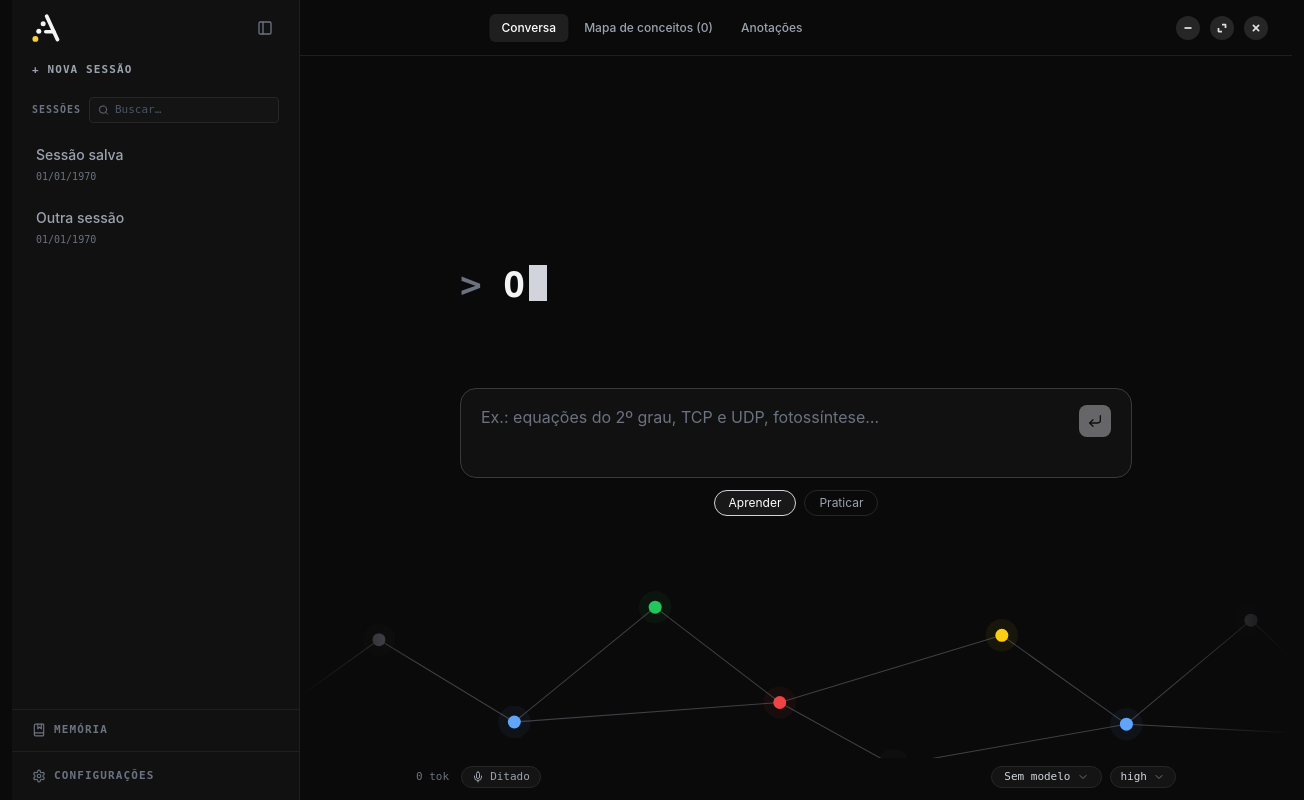
Test: App session navigation › F5: going back to the current session after "+ Nova sessão" restores the conversation
This screenshot has width=1304, height=800.
Step 1. Click the text "Sessão salva" → (80, 155), box x1=36 y1=145 x2=124 y2=165
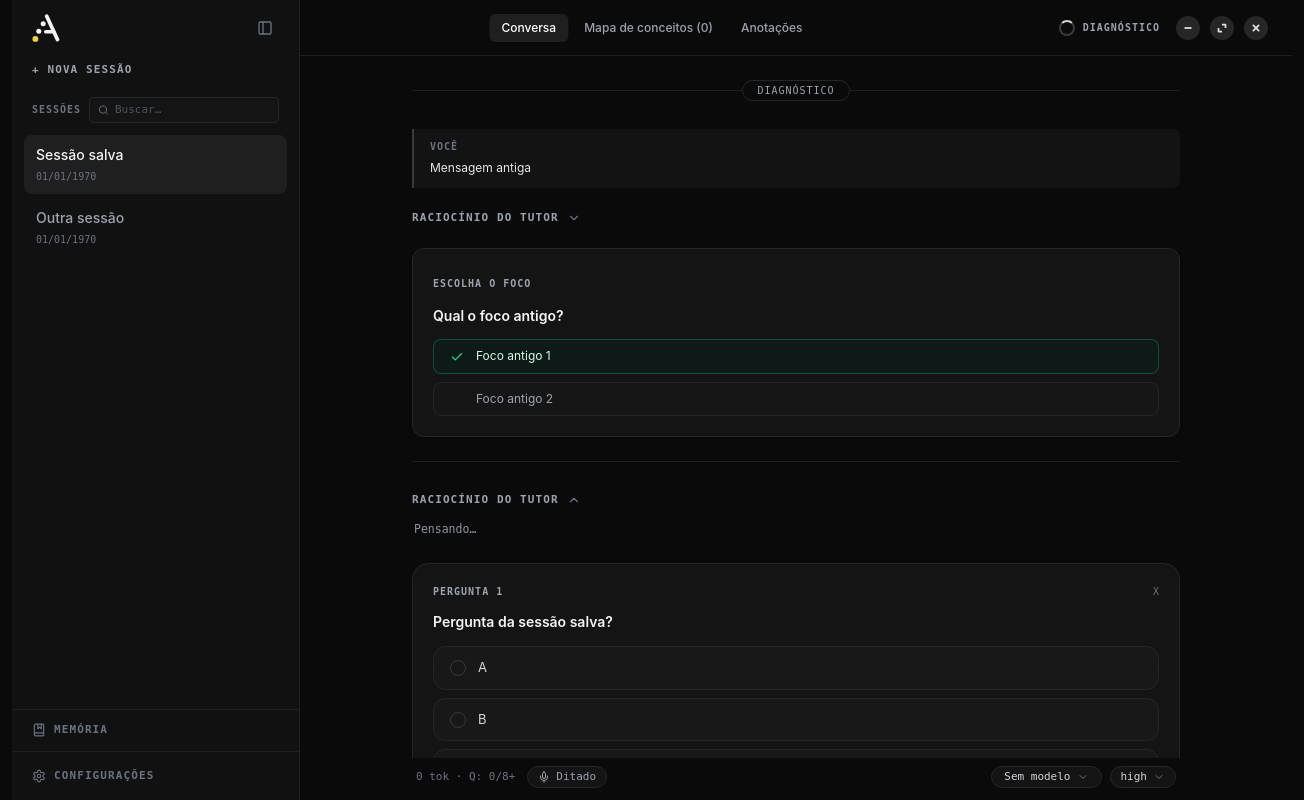
Now the text "Pergunta da sessão salva?" is shown, box x1=433 y1=613 x2=613 y2=630
Step 2. Click the button "+ Nova sessão" → (82, 70), box x1=24 y1=56 x2=287 y2=84
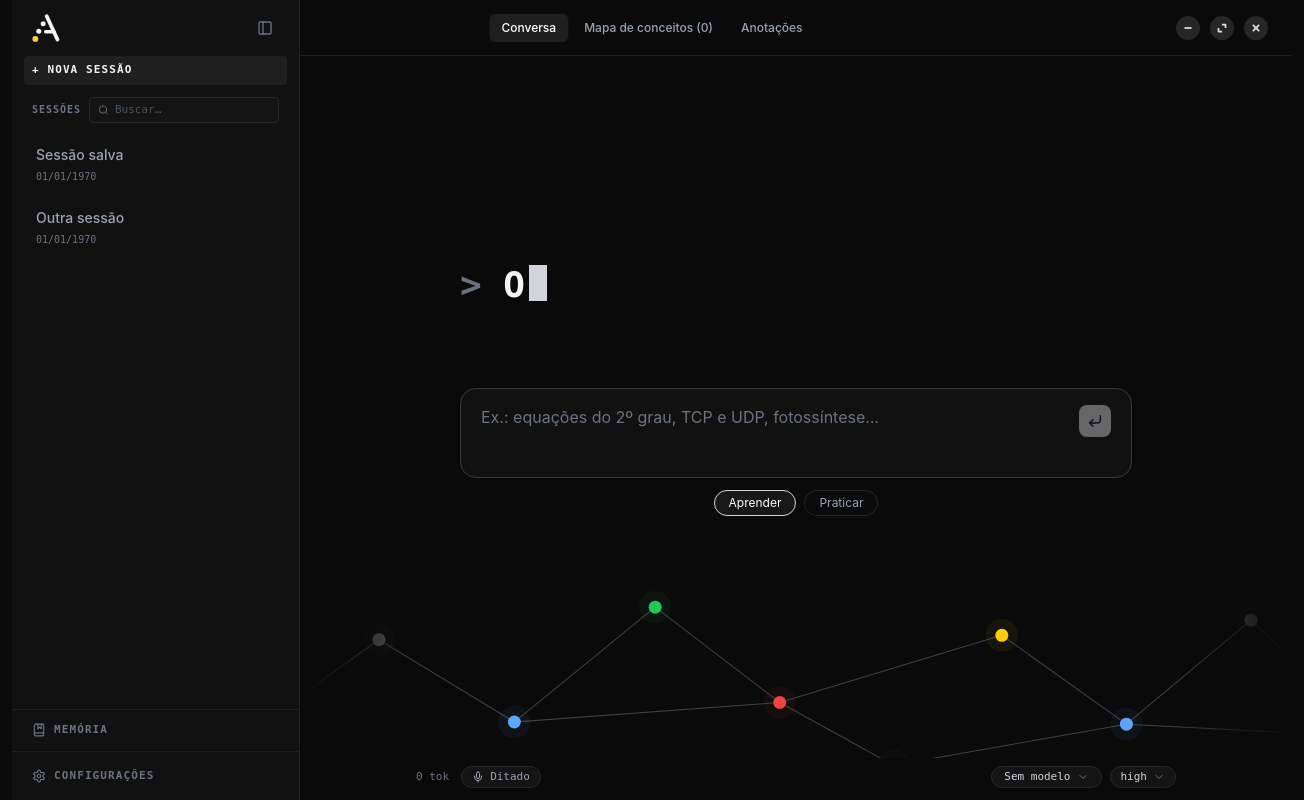
Now the text "Mensagem antiga" is gone
Step 3. Click the text "Sessão salva" → (80, 155), box x1=36 y1=145 x2=124 y2=165
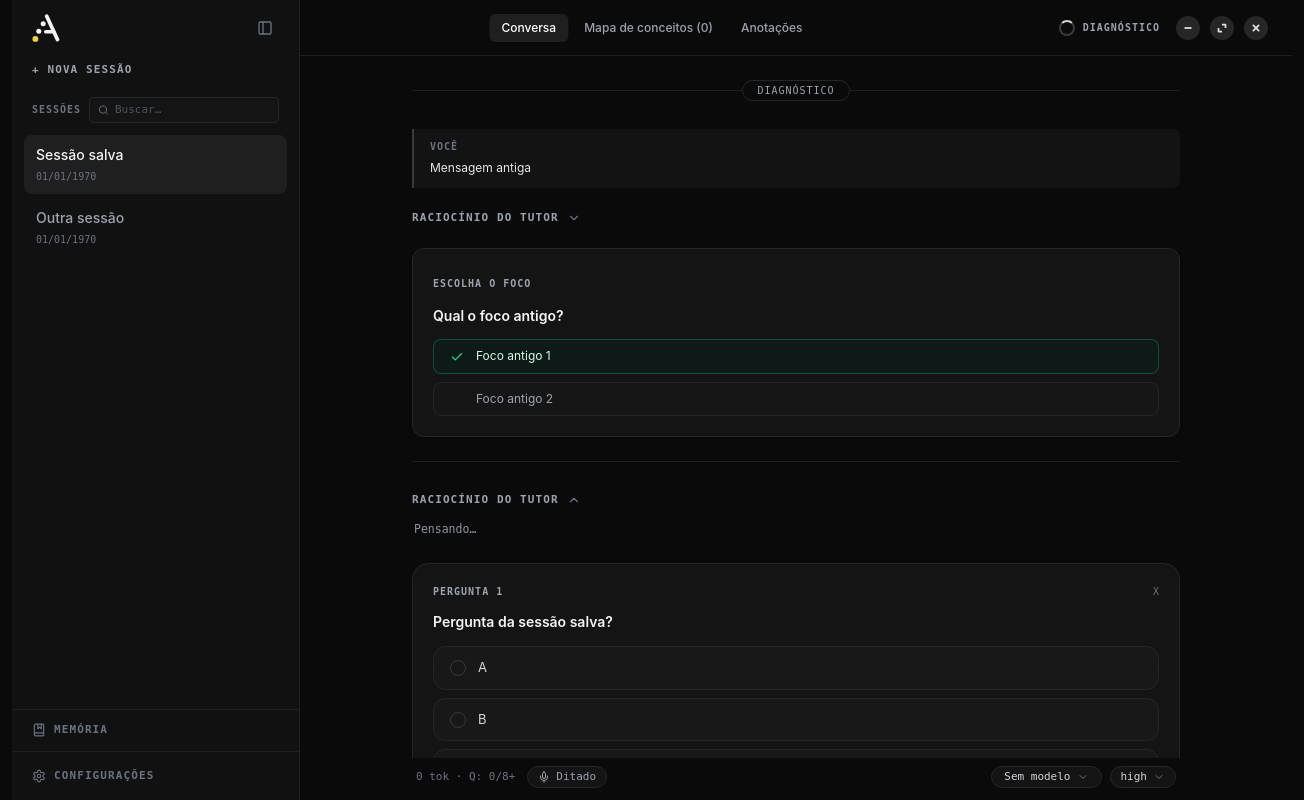
Now the text "Mensagem antiga" is shown, box x1=430 y1=160 x2=531 y2=175
